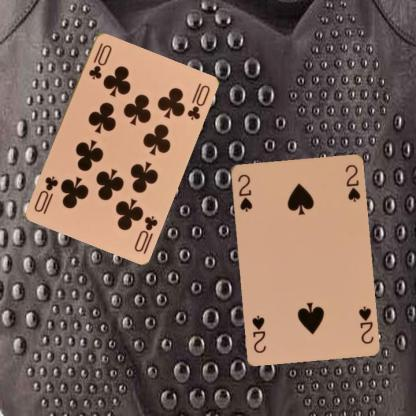10c: (131, 213, 159, 253), (86, 40, 113, 81)
2s: (235, 171, 254, 213), (356, 303, 374, 345)
